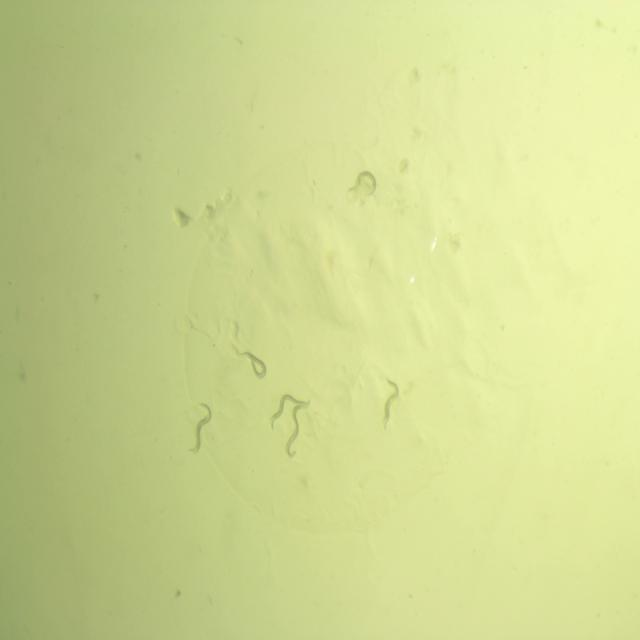worm: (266, 390, 313, 432), (282, 395, 312, 460), (183, 397, 214, 459), (378, 374, 403, 433), (236, 346, 270, 384), (344, 167, 381, 201)
